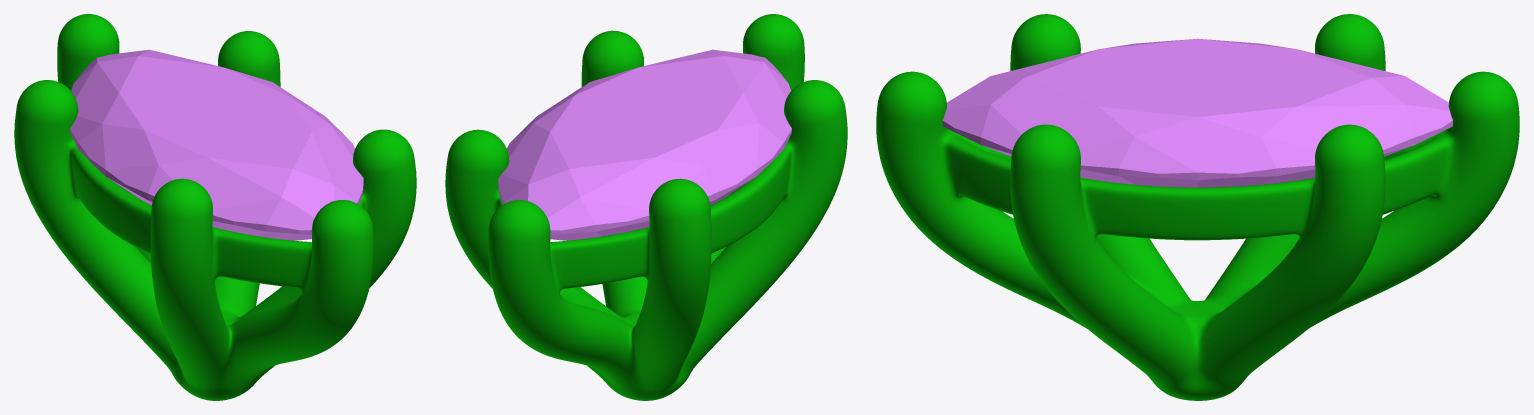
3 renders of one model, left to right at view 1: azimuth 30°, elevation 25°; view 2: azimuth 150°, elevation 25°; view 3: azimuth 270°, elevation 25°, orthographic. The views are drawn at different scales.
Parts seen in each view (by area): view 1: Metal01, Diamond_Marquise; view 2: Metal01, Diamond_Marquise; view 3: Metal01, Diamond_Marquise.
Boxes of the visible parts, bbox=[...] form: Metal01: bbox=[14, 14, 416, 400]; Diamond_Marquise: bbox=[70, 49, 363, 240]; Metal01: bbox=[445, 14, 847, 400]; Diamond_Marquise: bbox=[498, 49, 791, 240]; Metal01: bbox=[876, 14, 1519, 400]; Diamond_Marquise: bbox=[942, 38, 1452, 187].
Bounding box in the file's own units: 4.7 × 5 × 9.03.
